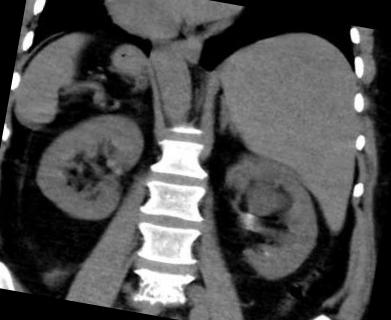Tas_Var: (242, 208, 254, 224), (261, 249, 270, 257)
